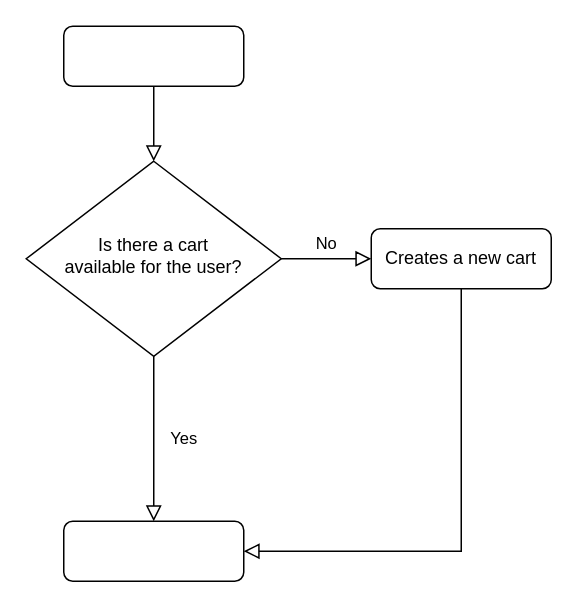
Image size: 578x608. Some labels were removed from this diagram. The shapes that lost their labels are listed below. From the top down, each one's centre as x and y in pixels, then its label:
the point at 153,55: User tries to get current cart
the point at 153,550: Returns current cart
